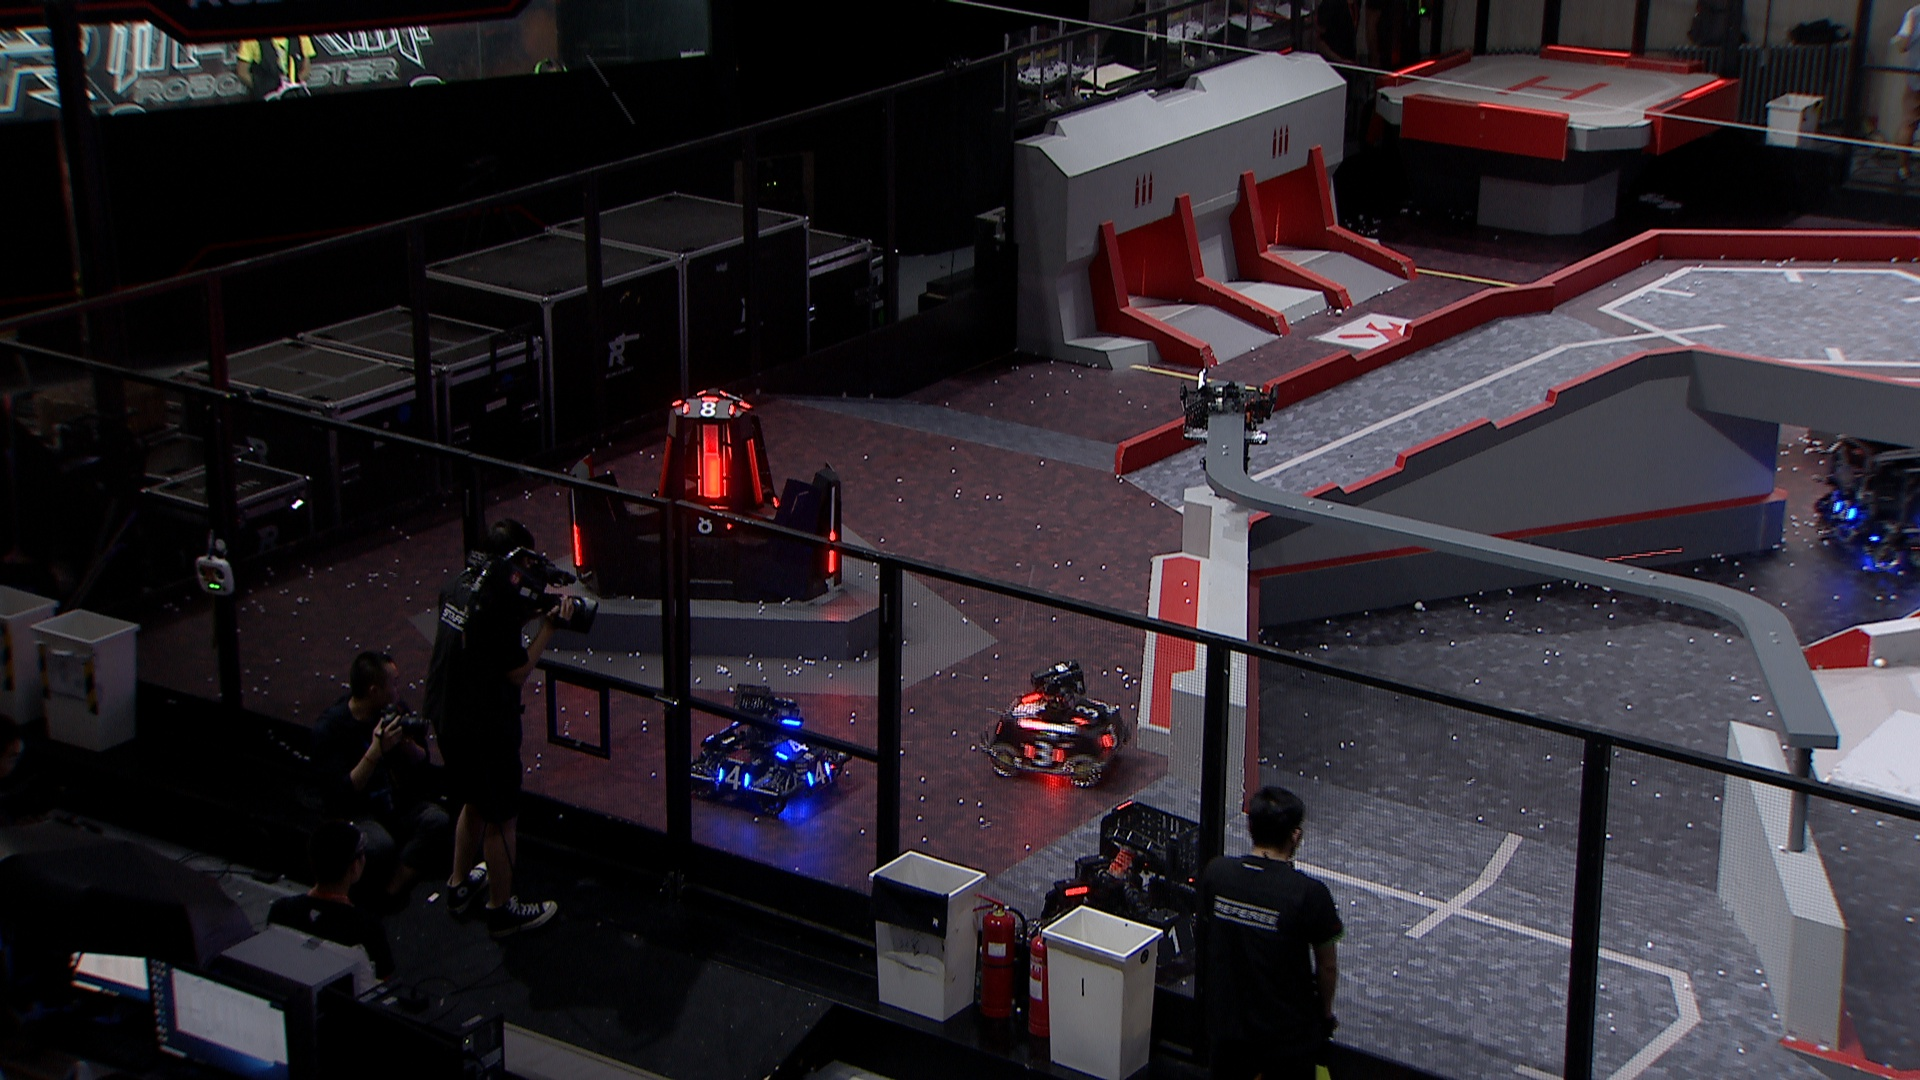armor: (1158, 918, 1199, 953), (698, 448, 724, 498), (1021, 738, 1064, 765), (655, 433, 671, 501), (713, 764, 752, 789), (746, 436, 761, 502), (774, 735, 811, 760), (680, 398, 733, 415), (686, 513, 728, 534), (808, 756, 832, 785), (571, 520, 584, 568), (1830, 498, 1855, 522), (1077, 698, 1100, 723), (825, 529, 837, 575), (1105, 721, 1124, 746)
base: (560, 385, 849, 604)
car: (1025, 794, 1232, 992), (684, 679, 849, 820), (978, 659, 1131, 789), (1808, 414, 1920, 589)
watcher: (1174, 371, 1276, 489)
